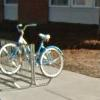Bicycle: (2, 15, 68, 82)
